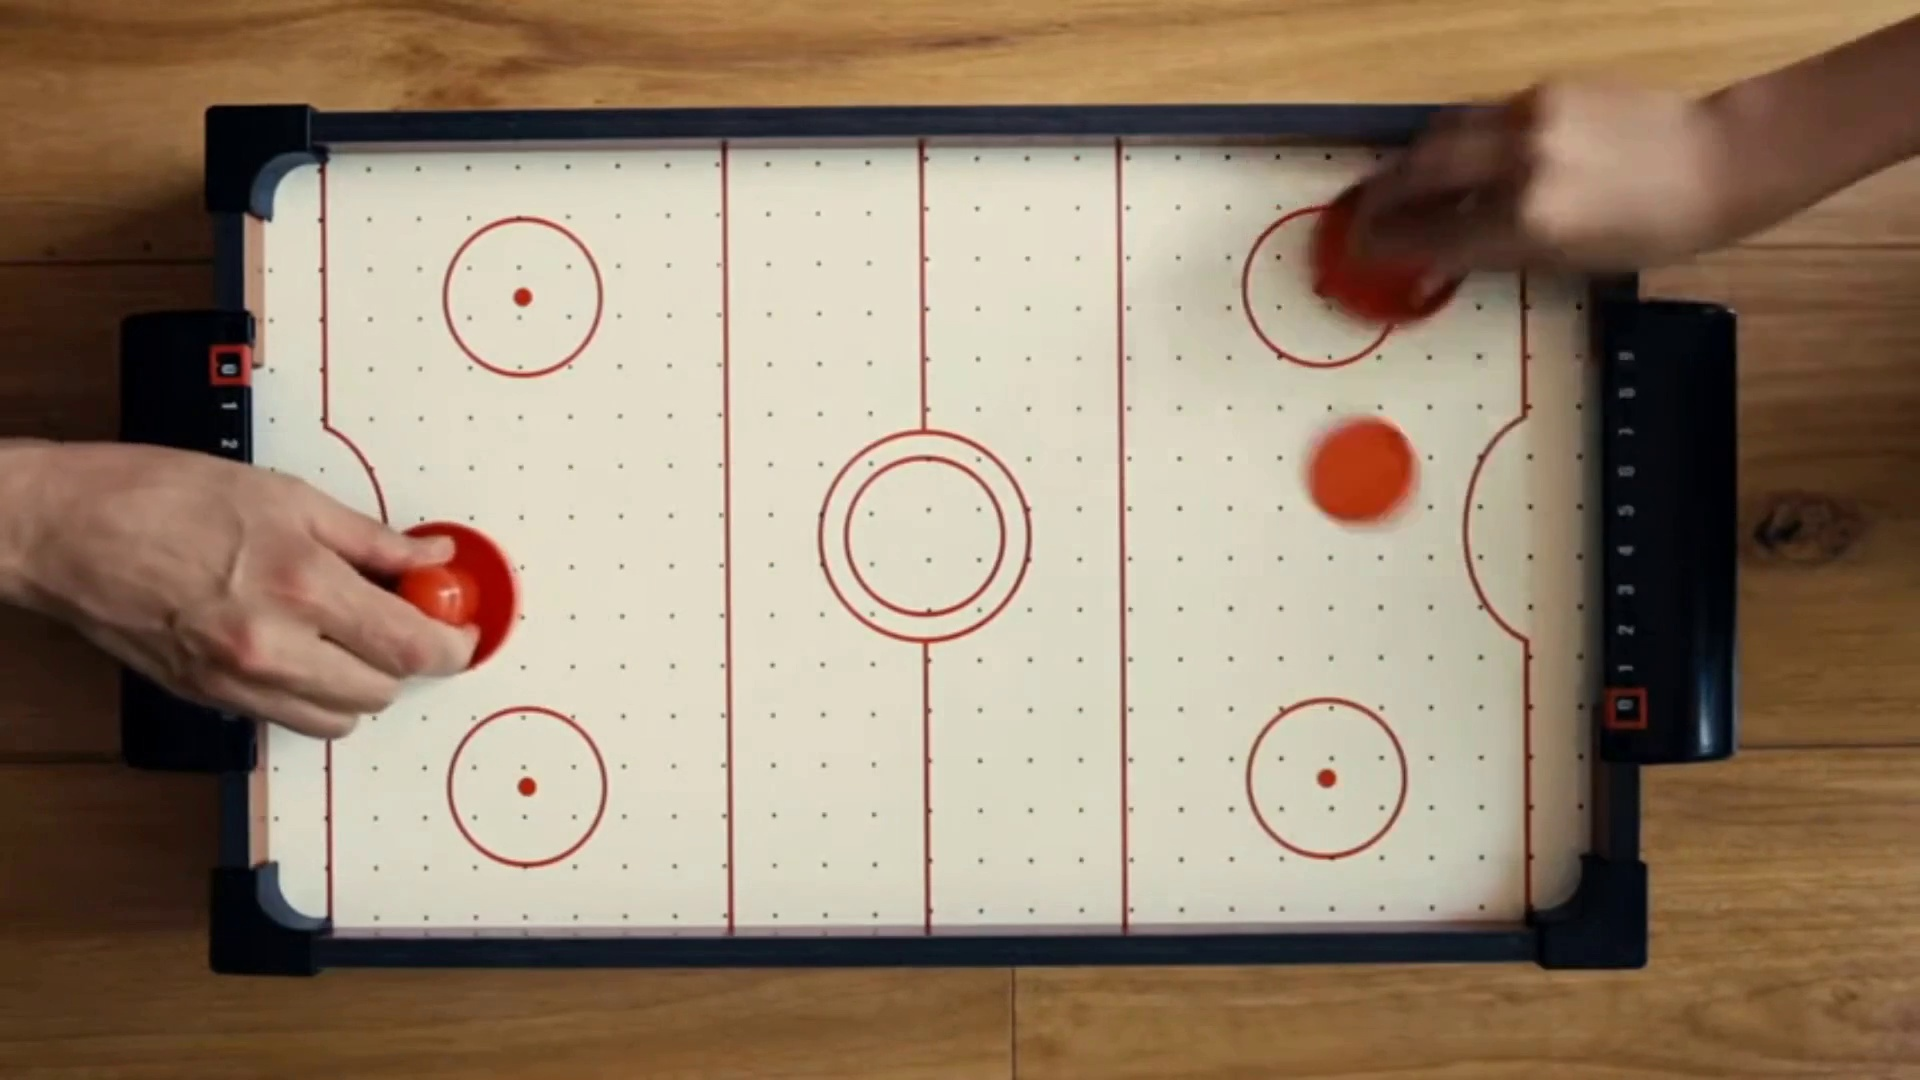player1: (380, 524, 518, 679)
player2: (1310, 179, 1466, 330)
puck: (1298, 412, 1421, 529)
